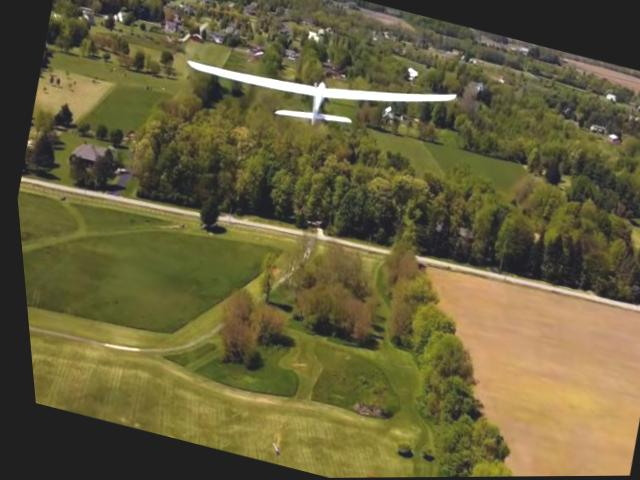iha: (174, 17, 460, 158)
